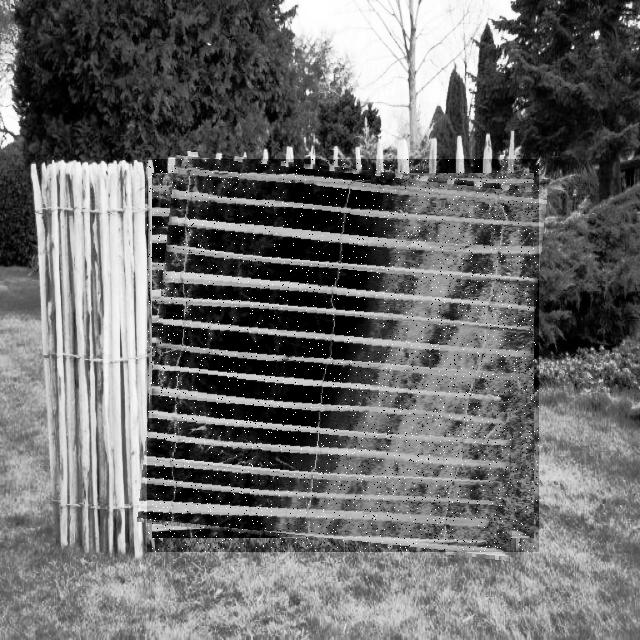fences: (147, 159, 539, 552)
